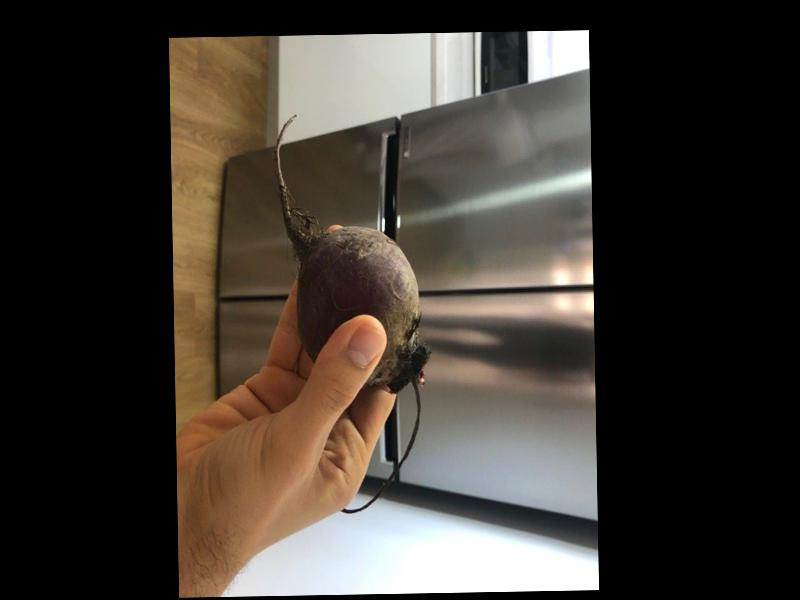Beet: (274, 109, 430, 514)
